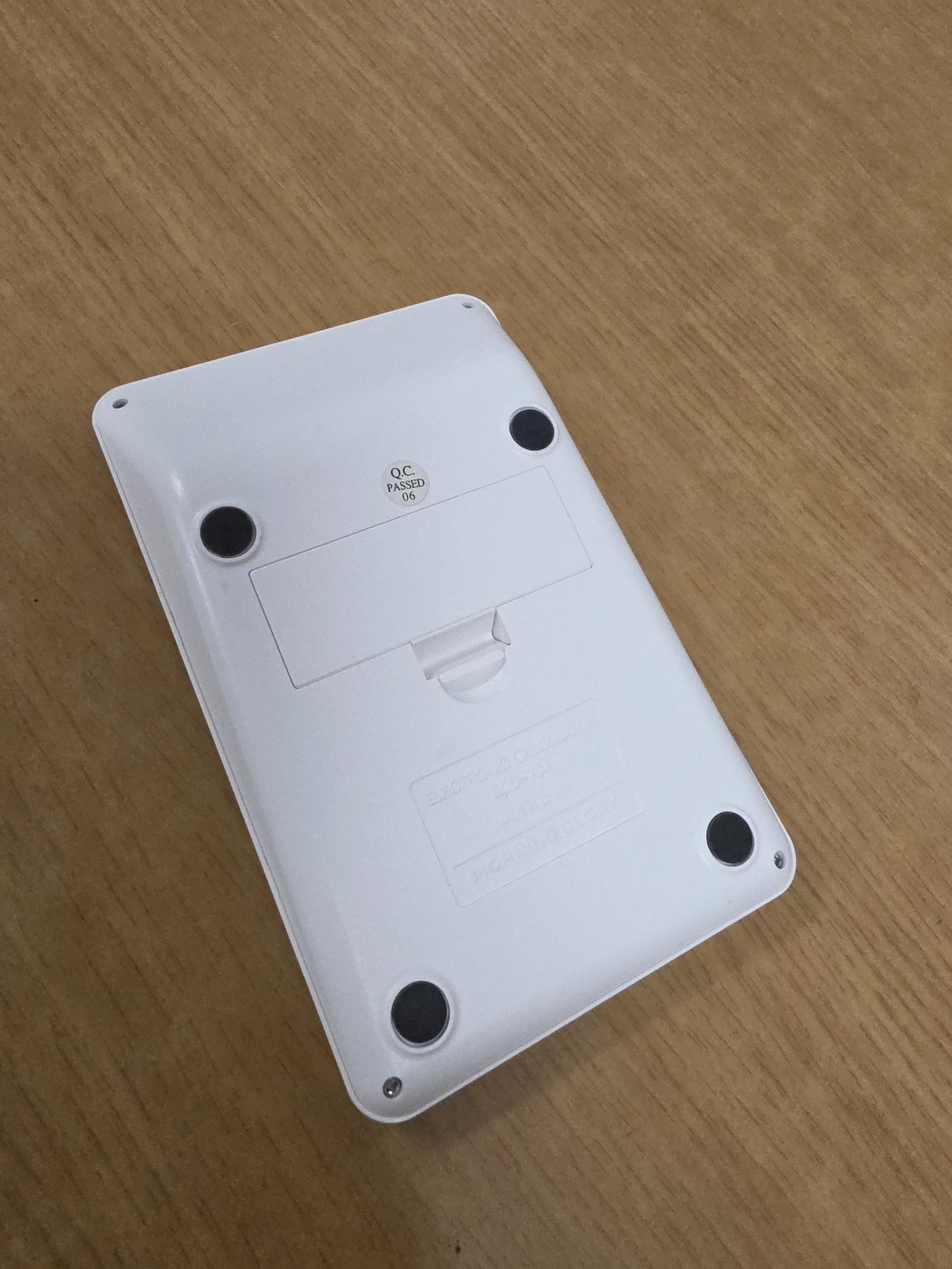calculator: (90, 293, 798, 1125)
